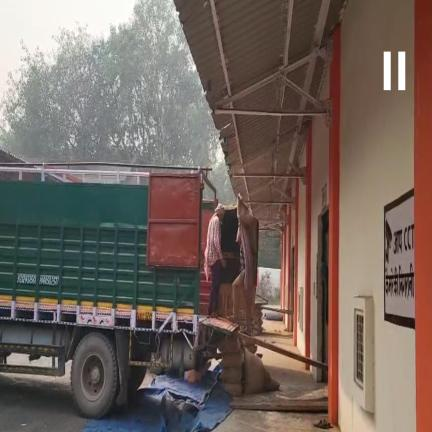Zone-Counting: (227, 195, 258, 333)
